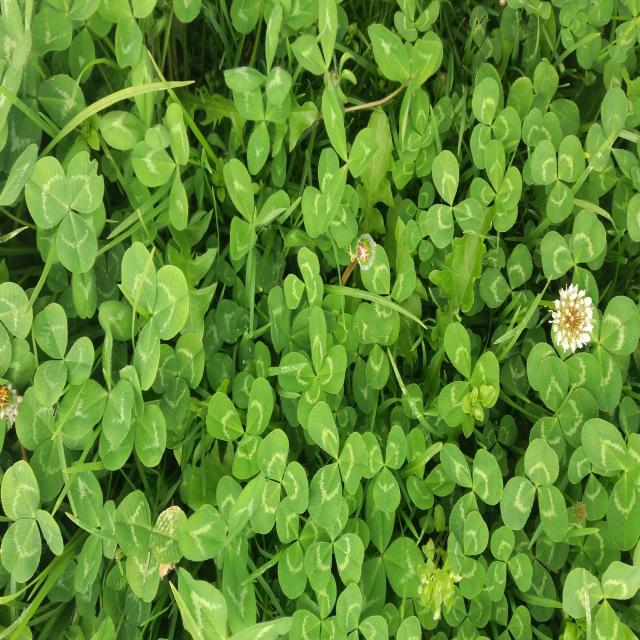Four Leaf Clover: (277, 305, 347, 428)
